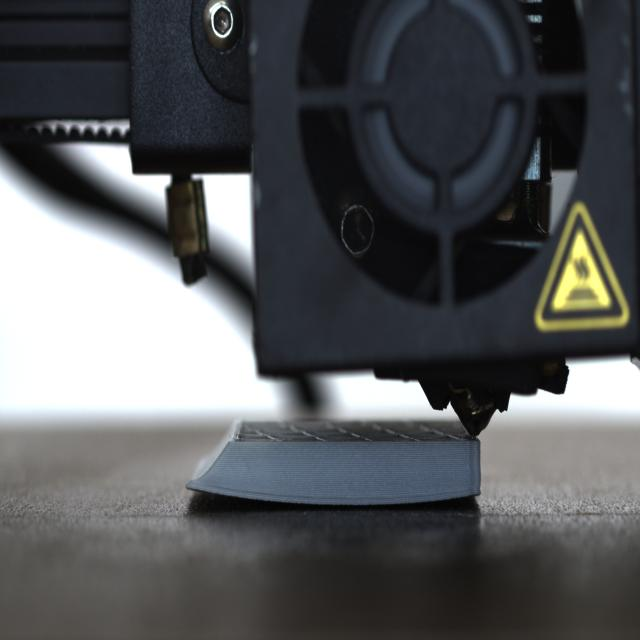Warping: (178, 476, 276, 511)
